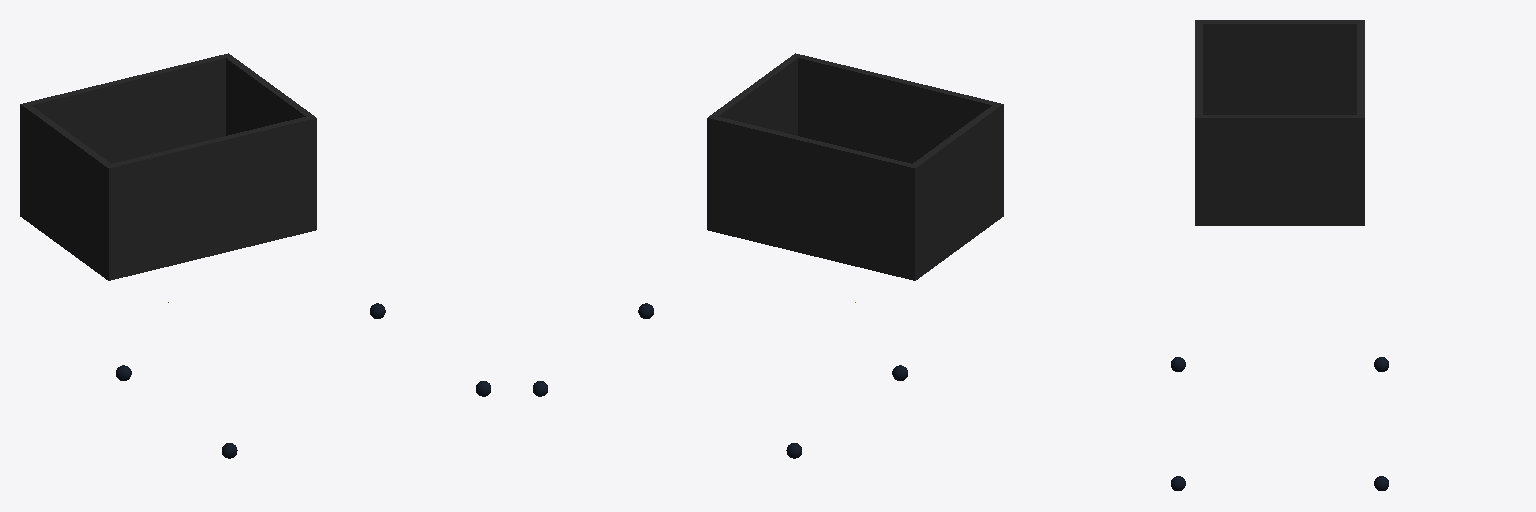
The robot description file, URDF, robot "a1_description":
<?xml version="1.0" ?>
<robot name="a1_description" xmlns:xacro="http://www.ros.org/wiki/xacro">
  <material name="black">
    <color rgba="0.0 0.0 0.0 1.0"/>
  </material>
  <material name="blue">
    <color rgba="0.0 0.0 0.8 1.0"/>
  </material>
  <material name="green">
    <color rgba="0.0 0.8 0.0 1.0"/>
  </material>
  <material name="grey">
    <color rgba="0.2 0.2 0.2 1.0"/>
  </material>
  <material name="silver">
    <color rgba="0.913725490196 0.913725490196 0.847058823529 1.0"/>
  </material>
  <material name="orange">
    <!-- <color rgba="1.0 0.423529411765 0.0392156862745 1.0"/> -->
    <color rgba="0.12 0.15 0.2 1.0"/>
  </material>
  <material name="brown">
    <color rgba="0.870588235294 0.811764705882 0.764705882353 1.0"/>
  </material>
  <material name="red">
    <color rgba="0.8 0.0 0.0 1.0"/>
  </material>
  <material name="white">
    <color rgba="1.0 1.0 1.0 1.0"/>
  </material>
  <link name="base">
    <visual>
      <origin rpy="0 0 0" xyz="0 0 0"/>
      <geometry>
        <box size="0.001 0.001 0.001"/>
      </geometry>
    </visual>
  </link>
  <joint name="floating_base" type="fixed">
    <origin rpy="0 0 0" xyz="0 0 0"/>
    <parent link="base"/>
    <child link="trunk"/>
  </joint>
  <link name="trunk">
    <visual>
      <origin rpy="0 0 0" xyz="0 0 0"/>
      <geometry>
        <mesh filename="../meshes/trunk.dae" scale="1 1 1"/>
      </geometry>
      <material name="orange"/>
    </visual>
    <collision>
      <origin rpy="0 0 0" xyz="0 0 0"/>
      <geometry>
        <box size="0.267 0.194 0.114"/>
      </geometry>
    </collision>
    <inertial>
      <origin rpy="0 0 0" xyz="0.012731 0.002186 0.000515"/>
      <mass value="4.713"/>
      <inertia ixx="0.01683993" ixy="8.3902e-05" ixz="0.000597679" iyy="0.056579028" iyz="2.5134e-05" izz="0.064713601"/>
    </inertial>
  </link>
  <joint name="imu_joint" type="fixed">
    <parent link="trunk"/>
    <child link="imu_link"/>
    <origin rpy="0 0 0" xyz="0 0 0"/>
  </joint>
  <link name="imu_link">
    <inertial>
      <mass value="0.001"/>
      <origin rpy="0 0 0" xyz="0 0 0"/>
      <inertia ixx="0.0001" ixy="0" ixz="0" iyy="0.0001" iyz="0" izz="0.0001"/>
    </inertial>
    <visual>
      <origin rpy="0 0 0" xyz="0 0 0"/>
      <geometry>
        <box size="0.001 0.001 0.001"/>
      </geometry>
      <material name="red"/>
    </visual>
    <!-- <collision>
      <origin rpy="0 0 0" xyz="0 0 0"/>
      <geometry>
        <box size=".001 .001 .001"/>
      </geometry>
    </collision> -->
  </link>
  <joint name="FR_hip_joint" type="revolute">
    <origin rpy="0 0 0" xyz="0.183 -0.047 0"/>
    <parent link="trunk"/>
    <child link="FR_hip"/>
    <axis xyz="1 0 0"/>
    <dynamics damping="0" friction="0"/>
    <limit effort="20" lower="-0.802851455917" upper="0.802851455917" velocity="52.4"/>
  </joint>
  <link name="FR_hip">
    <visual>
      <origin rpy="3.14159265359 0 0" xyz="0 0 0"/>
      <geometry>
        <mesh filename="../meshes/hip.dae" scale="1 1 1"/>
      </geometry>
      <material name="orange"/>
    </visual>
    <!-- <collision>
      <origin rpy="1.57079632679 0 0" xyz="0 0 0"/>
      <geometry>
        <cylinder length="0.04" radius="0.046"/>
      </geometry>
    </collision> -->
    <inertial>
      <origin rpy="0 0 0" xyz="-0.003311 -0.000635 3.1e-05"/>
      <mass value="0.696"/>
      <inertia ixx="0.000469246" ixy="9.409e-06" ixz="-3.42e-07" iyy="0.00080749" iyz="4.66e-07" izz="0.000552929"/>
    </inertial>
  </link>
  <joint name="FR_hip_fixed" type="fixed">
    <origin rpy="0 0 0" xyz="0 -0.081 0"/>
    <parent link="FR_hip"/>
    <child link="FR_thigh_shoulder"/>
  </joint>
  <!-- this link is only for collision -->
  <link name="FR_thigh_shoulder">
    <!-- <collision>
      <origin rpy="1.57079632679 0 0" xyz="0 0 0"/>
      <geometry>
        <cylinder length="0.032" radius="0.041"/>
      </geometry>
    </collision> -->
  </link>
  <joint name="FR_thigh_joint" type="revolute">
    <origin rpy="0 0 0" xyz="0 -0.08505 0"/>
    <parent link="FR_hip"/>
    <child link="FR_thigh"/>
    <axis xyz="0 1 0"/>
    <dynamics damping="0" friction="0"/>
    <limit effort="55" lower="-1.0471975512" upper="4.18879020479" velocity="28.6"/>
  </joint>
  <link name="FR_thigh">
    <visual>
      <origin rpy="0 0 0" xyz="0 0 0"/>
      <geometry>
        <mesh filename="../meshes/thigh_mirror.dae" scale="1 1 1"/>
      </geometry>
      <material name="orange"/>
    </visual>
    <collision>
      <origin rpy="0 1.57079632679 0" xyz="0 0 -0.1"/>
      <geometry>
        <box size="0.2 0.0245 0.034"/>
      </geometry>
    </collision>
    <inertial>
      <origin rpy="0 0 0" xyz="-0.003237 0.022327 -0.027326"/>
      <mass value="1.013"/>
      <inertia ixx="0.005529065" ixy="-4.825e-06" ixz="0.000343869" iyy="0.005139339" iyz="-2.2448e-05" izz="0.001367788"/>
    </inertial>
  </link>
  <joint name="FR_calf_joint" type="revolute">
    <origin rpy="0 0 0" xyz="0 0 -0.2"/>
    <parent link="FR_thigh"/>
    <child link="FR_calf"/>
    <axis xyz="0 1 0"/>
    <dynamics damping="0" friction="0"/>
    <limit effort="55" lower="-2.69653369433" upper="-0.916297857297" velocity="28.6"/>
  </joint>
  <link name="FR_calf">
    <visual>
      <origin rpy="0 0 0" xyz="0 0 0"/>
      <geometry>
        <mesh filename="../meshes/calf.dae" scale="1 1 1"/>
      </geometry>
      <material name="orange"/>
    </visual>
    <collision>
      <origin rpy="0 1.57079632679 0" xyz="0 0 -0.1"/>
      <geometry>
        <box size="0.2 0.016 0.016"/>
      </geometry>
    </collision>
    <inertial>
      <origin rpy="0 0 0" xyz="0.006435 0.0 -0.107388"/>
      <mass value="0.166"/>
      <inertia ixx="0.002997972" ixy="0.0" ixz="-0.000141163" iyy="0.003014022" iyz="0.0" izz="3.2426e-05"/>
    </inertial>
  </link>
  <joint name="FR_foot_fixed" type="fixed" dont_collapse="true">
    <origin rpy="0 0 0" xyz="0 0 -0.2"/>
    <parent link="FR_calf"/>
    <child link="FR_foot"/>
  </joint>
  <link name="FR_foot">
    <visual>
      <origin rpy="0 0 0" xyz="0 0 0"/>
      <geometry>
        <sphere radius="0.01"/>
      </geometry>
      <material name="orange"/>
    </visual>
    <collision>
      <origin rpy="0 0 0" xyz="0 0 0"/>
      <geometry>
        <sphere radius="0.02"/>
      </geometry>
    </collision>
    <inertial>
      <mass value="0.06"/>
      <inertia ixx="9.6e-06" ixy="0.0" ixz="0.0" iyy="9.6e-06" iyz="0.0" izz="9.6e-06"/>
    </inertial>
  </link>
  <joint name="FL_hip_joint" type="revolute">
    <origin rpy="0 0 0" xyz="0.183 0.047 0"/>
    <parent link="trunk"/>
    <child link="FL_hip"/>
    <axis xyz="1 0 0"/>
    <dynamics damping="0" friction="0"/>
    <limit effort="20" lower="-0.802851455917" upper="0.802851455917" velocity="52.4"/>
  </joint>
  <link name="FL_hip">
    <visual>
      <origin rpy="0 0 0" xyz="0 0 0"/>
      <geometry>
        <mesh filename="../meshes/hip.dae" scale="1 1 1"/>
      </geometry>
      <material name="orange"/>
    </visual>
    <!-- <collision>
      <origin rpy="1.57079632679 0 0" xyz="0 0 0"/>
      <geometry>
        <cylinder length="0.04" radius="0.046"/>
      </geometry>
    </collision> -->
    <inertial>
      <origin rpy="0 0 0" xyz="-0.003311 0.000635 3.1e-05"/>
      <mass value="0.696"/>
      <inertia ixx="0.000469246" ixy="-9.409e-06" ixz="-3.42e-07" iyy="0.00080749" iyz="-4.66e-07" izz="0.000552929"/>
    </inertial>
  </link>
  <joint name="FL_hip_fixed" type="fixed">
    <origin rpy="0 0 0" xyz="0 0.081 0"/>
    <parent link="FL_hip"/>
    <child link="FL_thigh_shoulder"/>
  </joint>
  <!-- this link is only for collision -->
  <link name="FL_thigh_shoulder">
    <!-- <collision>
      <origin rpy="1.57079632679 0 0" xyz="0 0 0"/>
      <geometry>
        <cylinder length="0.032" radius="0.041"/>
      </geometry>
    </collision> -->
  </link>
  <joint name="FL_thigh_joint" type="revolute">
    <origin rpy="0 0 0" xyz="0 0.08505 0"/>
    <parent link="FL_hip"/>
    <child link="FL_thigh"/>
    <axis xyz="0 1 0"/>
    <dynamics damping="0" friction="0"/>
    <limit effort="55" lower="-1.0471975512" upper="4.18879020479" velocity="28.6"/>
  </joint>
  <link name="FL_thigh">
    <visual>
      <origin rpy="0 0 0" xyz="0 0 0"/>
      <geometry>
        <mesh filename="../meshes/thigh.dae" scale="1 1 1"/>
      </geometry>
      <material name="orange"/>
    </visual>
    <collision>
      <origin rpy="0 1.57079632679 0" xyz="0 0 -0.1"/>
      <geometry>
        <box size="0.2 0.0245 0.034"/>
      </geometry>
    </collision>
    <inertial>
      <origin rpy="0 0 0" xyz="-0.003237 -0.022327 -0.027326"/>
      <mass value="1.013"/>
      <inertia ixx="0.005529065" ixy="4.825e-06" ixz="0.000343869" iyy="0.005139339" iyz="2.2448e-05" izz="0.001367788"/>
    </inertial>
  </link>
  <joint name="FL_calf_joint" type="revolute">
    <origin rpy="0 0 0" xyz="0 0 -0.2"/>
    <parent link="FL_thigh"/>
    <child link="FL_calf"/>
    <axis xyz="0 1 0"/>
    <dynamics damping="0" friction="0"/>
    <limit effort="55" lower="-2.69653369433" upper="-0.916297857297" velocity="28.6"/>
  </joint>
  <link name="FL_calf">
    <visual>
      <origin rpy="0 0 0" xyz="0 0 0"/>
      <geometry>
        <mesh filename="../meshes/calf.dae" scale="1 1 1"/>
      </geometry>
      <material name="orange"/>
    </visual>
    <collision>
      <origin rpy="0 1.57079632679 0" xyz="0 0 -0.1"/>
      <geometry>
        <box size="0.2 0.016 0.016"/>
      </geometry>
    </collision>
    <inertial>
      <origin rpy="0 0 0" xyz="0.006435 0.0 -0.107388"/>
      <mass value="0.166"/>
      <inertia ixx="0.002997972" ixy="0.0" ixz="-0.000141163" iyy="0.003014022" iyz="0.0" izz="3.2426e-05"/>
    </inertial>
  </link>
  <joint name="FL_foot_fixed" type="fixed" dont_collapse="true">
    <origin rpy="0 0 0" xyz="0 0 -0.2"/>
    <parent link="FL_calf"/>
    <child link="FL_foot"/>
  </joint>
  <link name="FL_foot">
    <visual>
      <origin rpy="0 0 0" xyz="0 0 0"/>
      <geometry>
        <sphere radius="0.01"/>
      </geometry>
      <material name="orange"/>
    </visual>
    <collision>
      <origin rpy="0 0 0" xyz="0 0 0"/>
      <geometry>
        <sphere radius="0.02"/>
      </geometry>
    </collision>
    <inertial>
      <mass value="0.06"/>
      <inertia ixx="9.6e-06" ixy="0.0" ixz="0.0" iyy="9.6e-06" iyz="0.0" izz="9.6e-06"/>
    </inertial>
  </link>
  <joint name="RR_hip_joint" type="revolute">
    <origin rpy="0 0 0" xyz="-0.183 -0.047 0"/>
    <parent link="trunk"/>
    <child link="RR_hip"/>
    <axis xyz="1 0 0"/>
    <dynamics damping="0" friction="0"/>
    <limit effort="20" lower="-0.802851455917" upper="0.802851455917" velocity="52.4"/>
  </joint>
  <link name="RR_hip">
    <visual>
      <origin rpy="3.14159265359 3.14159265359 0" xyz="0 0 0"/>
      <geometry>
        <mesh filename="../meshes/hip.dae" scale="1 1 1"/>
      </geometry>
      <material name="orange"/>
    </visual>
    <!-- <collision>
      <origin rpy="1.57079632679 0 0" xyz="0 0 0"/>
      <geometry>
        <cylinder length="0.04" radius="0.046"/>
      </geometry>
    </collision> -->
    <inertial>
      <origin rpy="0 0 0" xyz="0.003311 -0.000635 3.1e-05"/>
      <mass value="0.696"/>
      <inertia ixx="0.000469246" ixy="-9.409e-06" ixz="3.42e-07" iyy="0.00080749" iyz="4.66e-07" izz="0.000552929"/>
    </inertial>
  </link>
  <joint name="RR_hip_fixed" type="fixed">
    <origin rpy="0 0 0" xyz="0 -0.081 0"/>
    <parent link="RR_hip"/>
    <child link="RR_thigh_shoulder"/>
  </joint>
  <!-- this link is only for collision -->
  <link name="RR_thigh_shoulder">
    <!-- <collision>
      <origin rpy="1.57079632679 0 0" xyz="0 0 0"/>
      <geometry>
        <cylinder length="0.032" radius="0.041"/>
      </geometry>
    </collision> -->
  </link>
  <joint name="RR_thigh_joint" type="revolute">
    <origin rpy="0 0 0" xyz="0 -0.08505 0"/>
    <parent link="RR_hip"/>
    <child link="RR_thigh"/>
    <axis xyz="0 1 0"/>
    <dynamics damping="0" friction="0"/>
    <limit effort="55" lower="-1.0471975512" upper="4.18879020479" velocity="28.6"/>
  </joint>
  <link name="RR_thigh">
    <visual>
      <origin rpy="0 0 0" xyz="0 0 0"/>
      <geometry>
        <mesh filename="../meshes/thigh_mirror.dae" scale="1 1 1"/>
      </geometry>
      <material name="orange"/>
    </visual>
    <collision>
      <origin rpy="0 1.57079632679 0" xyz="0 0 -0.1"/>
      <geometry>
        <box size="0.2 0.0245 0.034"/>
      </geometry>
    </collision>
    <inertial>
      <origin rpy="0 0 0" xyz="-0.003237 0.022327 -0.027326"/>
      <mass value="1.013"/>
      <inertia ixx="0.005529065" ixy="-4.825e-06" ixz="0.000343869" iyy="0.005139339" iyz="-2.2448e-05" izz="0.001367788"/>
    </inertial>
  </link>
  <joint name="RR_calf_joint" type="revolute">
    <origin rpy="0 0 0" xyz="0 0 -0.2"/>
    <parent link="RR_thigh"/>
    <child link="RR_calf"/>
    <axis xyz="0 1 0"/>
    <dynamics damping="0" friction="0"/>
    <limit effort="55" lower="-2.69653369433" upper="-0.916297857297" velocity="28.6"/>
  </joint>
  <link name="RR_calf">
    <visual>
      <origin rpy="0 0 0" xyz="0 0 0"/>
      <geometry>
        <mesh filename="../meshes/calf.dae" scale="1 1 1"/>
      </geometry>
      <material name="orange"/>
    </visual>
    <collision>
      <origin rpy="0 1.57079632679 0" xyz="0 0 -0.1"/>
      <geometry>
        <box size="0.2 0.016 0.016"/>
      </geometry>
    </collision>
    <inertial>
      <origin rpy="0 0 0" xyz="0.006435 0.0 -0.107388"/>
      <mass value="0.166"/>
      <inertia ixx="0.002997972" ixy="0.0" ixz="-0.000141163" iyy="0.003014022" iyz="0.0" izz="3.2426e-05"/>
    </inertial>
  </link>
  <joint name="RR_foot_fixed" type="fixed" dont_collapse="true">
    <origin rpy="0 0 0" xyz="0 0 -0.2"/>
    <parent link="RR_calf"/>
    <child link="RR_foot"/>
  </joint>
  <link name="RR_foot">
    <visual>
      <origin rpy="0 0 0" xyz="0 0 0"/>
      <geometry>
        <sphere radius="0.01"/>
      </geometry>
      <material name="orange"/>
    </visual>
    <collision>
      <origin rpy="0 0 0" xyz="0 0 0"/>
      <geometry>
        <sphere radius="0.02"/>
      </geometry>
    </collision>
    <inertial>
      <mass value="0.06"/>
      <inertia ixx="9.6e-06" ixy="0.0" ixz="0.0" iyy="9.6e-06" iyz="0.0" izz="9.6e-06"/>
    </inertial>
  </link>
  <joint name="RL_hip_joint" type="revolute">
    <origin rpy="0 0 0" xyz="-0.183 0.047 0"/>
    <parent link="trunk"/>
    <child link="RL_hip"/>
    <axis xyz="1 0 0"/>
    <dynamics damping="0" friction="0"/>
    <limit effort="20" lower="-0.802851455917" upper="0.802851455917" velocity="52.4"/>
  </joint>
  <link name="RL_hip">
    <visual>
      <origin rpy="0 3.14159265359 0" xyz="0 0 0"/>
      <geometry>
        <mesh filename="../meshes/hip.dae" scale="1 1 1"/>
      </geometry>
      <material name="orange"/>
    </visual>
    <!-- <collision>
      <origin rpy="1.57079632679 0 0" xyz="0 0 0"/>
      <geometry>
        <cylinder length="0.04" radius="0.046"/>
      </geometry>
    </collision> -->
    <inertial>
      <origin rpy="0 0 0" xyz="0.003311 0.000635 3.1e-05"/>
      <mass value="0.696"/>
      <inertia ixx="0.000469246" ixy="9.409e-06" ixz="3.42e-07" iyy="0.00080749" iyz="-4.66e-07" izz="0.000552929"/>
    </inertial>
  </link>
  <joint name="RL_hip_fixed" type="fixed">
    <origin rpy="0 0 0" xyz="0 0.081 0"/>
    <parent link="RL_hip"/>
    <child link="RL_thigh_shoulder"/>
  </joint>
  <!-- this link is only for collision -->
  <link name="RL_thigh_shoulder">
    <!-- <collision>
      <origin rpy="1.57079632679 0 0" xyz="0 0 0"/>
      <geometry>
        <cylinder length="0.032" radius="0.041"/>
      </geometry>
    </collision> -->
  </link>
  <joint name="RL_thigh_joint" type="revolute">
    <origin rpy="0 0 0" xyz="0 0.08505 0"/>
    <parent link="RL_hip"/>
    <child link="RL_thigh"/>
    <axis xyz="0 1 0"/>
    <dynamics damping="0" friction="0"/>
    <limit effort="55" lower="-1.0471975512" upper="4.18879020479" velocity="28.6"/>
  </joint>
  <link name="RL_thigh">
    <visual>
      <origin rpy="0 0 0" xyz="0 0 0"/>
      <geometry>
        <mesh filename="../meshes/thigh.dae" scale="1 1 1"/>
      </geometry>
      <material name="orange"/>
    </visual>
    <collision>
      <origin rpy="0 1.57079632679 0" xyz="0 0 -0.1"/>
      <geometry>
        <box size="0.2 0.0245 0.034"/>
      </geometry>
    </collision>
    <inertial>
      <origin rpy="0 0 0" xyz="-0.003237 -0.022327 -0.027326"/>
      <mass value="1.013"/>
      <inertia ixx="0.005529065" ixy="4.825e-06" ixz="0.000343869" iyy="0.005139339" iyz="2.2448e-05" izz="0.001367788"/>
    </inertial>
  </link>
  <joint name="RL_calf_joint" type="revolute">
    <origin rpy="0 0 0" xyz="0 0 -0.2"/>
    <parent link="RL_thigh"/>
    <child link="RL_calf"/>
    <axis xyz="0 1 0"/>
    <dynamics damping="0" friction="0"/>
    <limit effort="55" lower="-2.69653369433" upper="-0.916297857297" velocity="28.6"/>
  </joint>
  <link name="RL_calf">
    <visual>
      <origin rpy="0 0 0" xyz="0 0 0"/>
      <geometry>
        <mesh filename="../meshes/calf.dae" scale="1 1 1"/>
      </geometry>
      <material name="orange"/>
    </visual>
    <collision>
      <origin rpy="0 1.57079632679 0" xyz="0 0 -0.1"/>
      <geometry>
        <box size="0.2 0.016 0.016"/>
      </geometry>
    </collision>
    <inertial>
      <origin rpy="0 0 0" xyz="0.006435 0.0 -0.107388"/>
      <mass value="0.166"/>
      <inertia ixx="0.002997972" ixy="0.0" ixz="-0.000141163" iyy="0.003014022" iyz="0.0" izz="3.2426e-05"/>
    </inertial>
  </link>
  <joint name="RL_foot_fixed" type="fixed" dont_collapse="true">
    <origin rpy="0 0 0" xyz="0 0 -0.2"/>
    <parent link="RL_calf"/>
    <child link="RL_foot"/>
  </joint>
  <link name="RL_foot">
    <visual>
      <origin rpy="0 0 0" xyz="0 0 0"/>
      <geometry>
        <sphere radius="0.01"/>
      </geometry>
      <material name="orange"/>
    </visual>
    <collision>
      <origin rpy="0 0 0" xyz="0 0 0"/>
      <geometry>
        <sphere radius="0.02"/>
      </geometry>
    </collision>
    <inertial>
      <mass value="0.06"/>
      <inertia ixx="9.6e-06" ixy="0.0" ixz="0.0" iyy="9.6e-06" iyz="0.0" izz="9.6e-06"/>
    </inertial>
  </link>
  
  <!-- New Box Link Without a Lid -->
  <link name="back_box">
    <!-- Bottom Face -->
    <visual>
      <origin xyz="0 0 0"/>
      <geometry>
        <box size="0.3 0.22 0.01"/>
      </geometry>
      <material name="grey"/>
    </visual>
    <collision>
      <origin xyz="0 0 0"/>
      <geometry>
        <box size="0.3 0.22 0.01"/>
      </geometry>
    </collision>
    <!-- Front Face -->
    <visual>
      <origin xyz="0 0.105 0.075" rpy="0 0 0"/>
      <geometry>
        <box size="0.3 0.01 0.15"/>
      </geometry>
      <material name="grey"/>
    </visual>
    <collision>
      <origin xyz="0 0.105 0.075" rpy="0 0 0"/>
      <geometry>
        <box size="0.3 0.01 0.15"/>
      </geometry>
    </collision>
    <!-- Back Face -->
    <visual>
      <origin xyz="0 -0.105 0.075" rpy="0 0 0"/>
      <geometry>
        <box size="0.3 0.01 0.15"/>
      </geometry>
      <material name="grey"/>
    </visual>
    <collision>
      <origin xyz="0 -0.105 0.075" rpy="0 0 0"/>
      <geometry>
        <box size="0.3 0.01 0.15"/>
      </geometry>
    </collision>
    <!-- Left Face -->
    <visual>
      <origin xyz="0.145 0 0.075" rpy="0 0 0"/>
      <geometry>
        <box size="0.01 0.22 0.15"/>
      </geometry>
      <material name="grey"/>
    </visual>
    <collision>
      <origin xyz="0.145 0 0.075" rpy="0 0 0"/>
      <geometry>
        <box size="0.01 0.22 0.15"/>
      </geometry>
    </collision>
    <!-- Right Face -->
    <visual>
      <origin xyz="-0.145 0 0.075" rpy="0 0 0"/>
      <geometry>
        <box size="0.01 0.22 0.15"/>
      </geometry>
      <material name="grey"/>
    </visual>
    <collision>
      <origin xyz="-0.145 0 0.075" rpy="0 0 0"/>
      <geometry>
        <box size="0.01 0.22 0.15"/>
      </geometry>
    </collision>
    <!-- Inertial properties -->
    <inertial>
      <mass value="0.5"/>
      <origin xyz="0 0 0"/>
      <inertia ixx="0.01" ixy="0.0" ixz="0.0" iyy="0.01" iyz="0.0" izz="0.01"/>
    </inertial>
  </link>
  
  <!-- Joint to attach the box to the trunk -->
  <joint name="trunk_to_back_box" type="fixed">
    <parent link="trunk"/>
    <child link="back_box"/>
    <origin xyz="0.00 0.0 0.114" rpy="0 0 0"/> <!-- Adjust the position as necessary -->
  </joint>
  
  <!-- Existing definitions -->
</robot>

--- Render facts (derived) ---
3 views of the same robot in one strip: view 1: azimuth 30°, elevation 25°; view 2: azimuth 150°, elevation 25°; view 3: azimuth 270°, elevation 25° (orthographic).
Robot: a1_description — 24 links, 23 joints (12 revolute, 11 fixed); root link base; default pose: all joints at 0 but 4 set to mid-range because 0 is outside their limits (FR_calf_joint = -1.81, FL_calf_joint = -1.81, RR_calf_joint = -1.81, RL_calf_joint = -1.81).
Visible links, largest first — view 1: back_box; view 2: back_box; view 3: back_box.
Link boxes in pixels (x1,y1,x2,y2): back_box: [20, 53, 316, 280]; back_box: [707, 53, 1003, 280]; back_box: [1195, 20, 1364, 225].
Bounding box of the posed robot: 0.5375 × 0.2841 × 0.4273 m (x, y, z).
0 mesh visuals loaded from 5 distinct referenced files (none loaded); not drawn: 13 (reference not matched to a file when rendering).